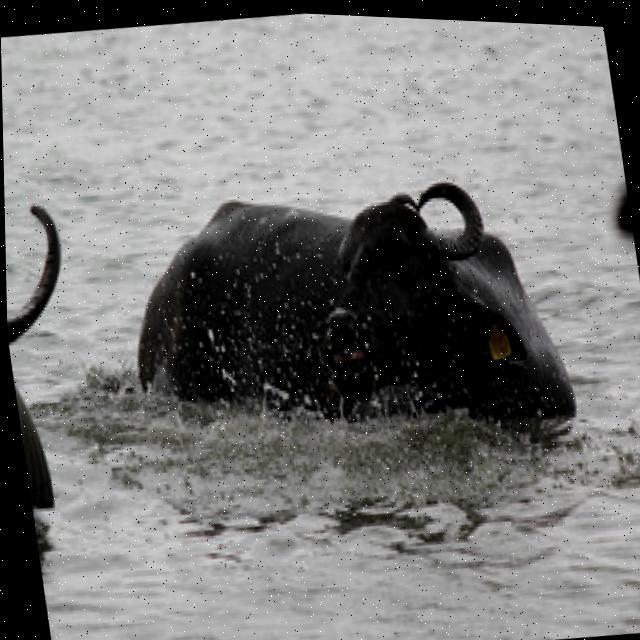Buffalo: (109, 152, 585, 481)
